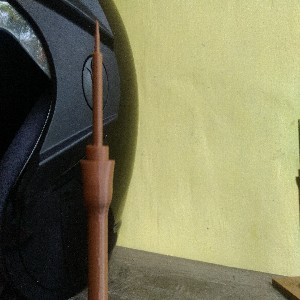solder: (79, 18, 115, 300)
